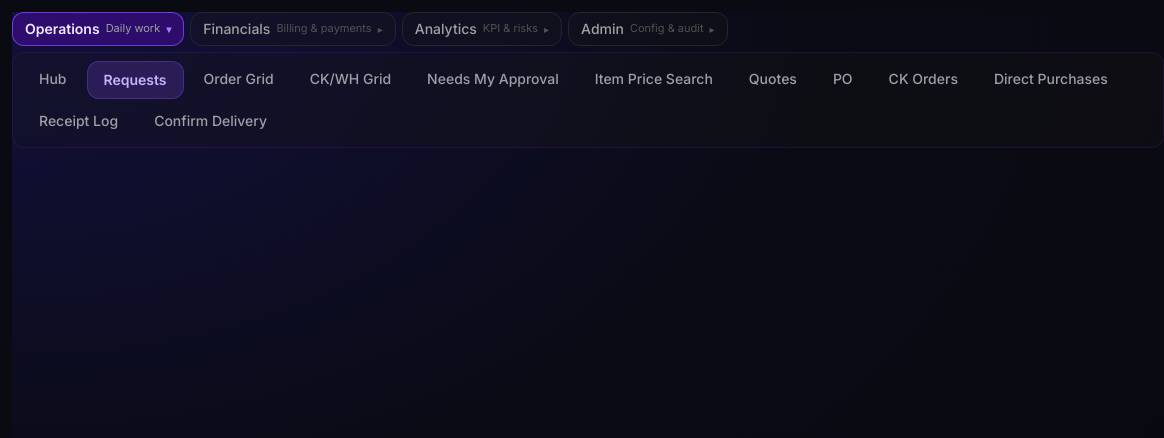
ProcurementTabs › Tabs visible for HQ (full access) › shows Vendors when Admin group is opened
Click the text "Admin" at (603, 29), box [581,19,624,39]
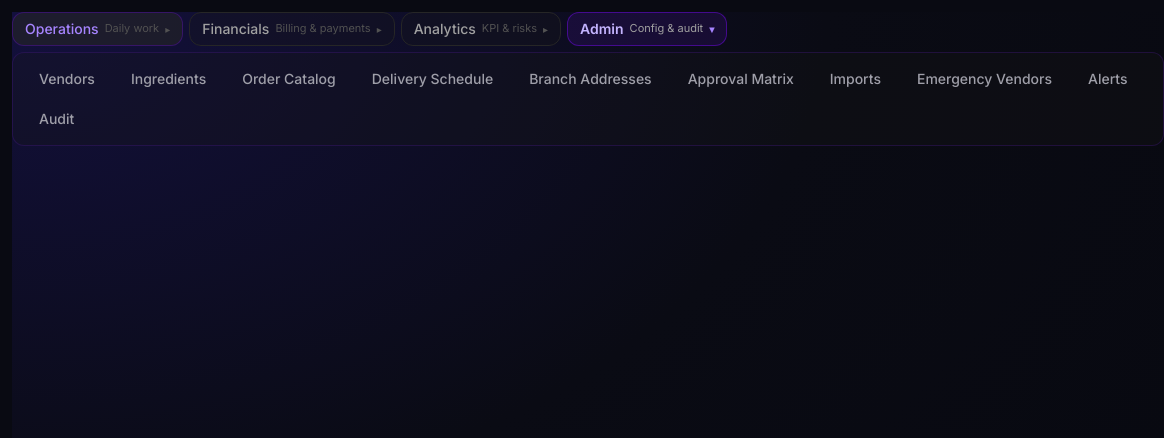
expect the link "Vendors" is shown: met, box [39,70,95,87]
